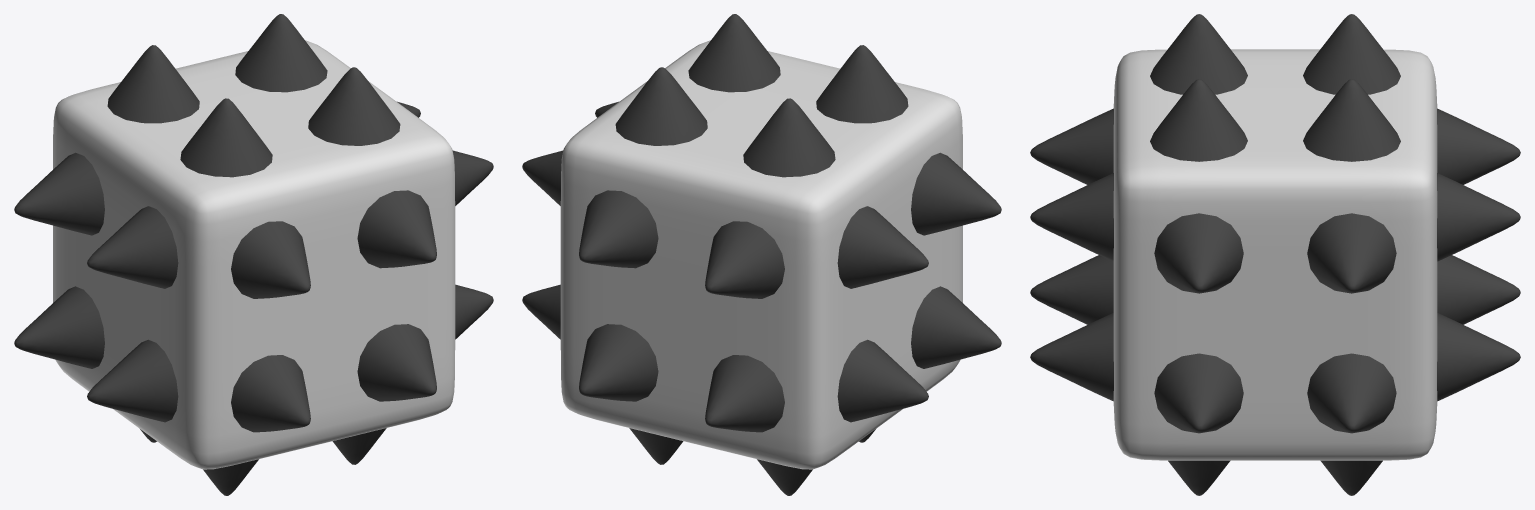
The model's file is DangerCube.fbx.
3 views of the same model, side by side, from view 1: azimuth 30°, elevation 25°; view 2: azimuth 150°, elevation 25°; view 3: azimuth 270°, elevation 25° (orthographic). The views are drawn at different scales.
Parts seen in each view (by area): view 1: Cube.002; view 2: Cube.002; view 3: Cube.002.
Part boxes in pixels (left/top/right/bottom): Cube.002: left=14, top=14, right=493, bottom=495; Cube.002: left=522, top=14, right=1001, bottom=495; Cube.002: left=1030, top=14, right=1520, bottom=495.
Bounding box in the file's own units: 3.18 × 2.98 × 3.18.
